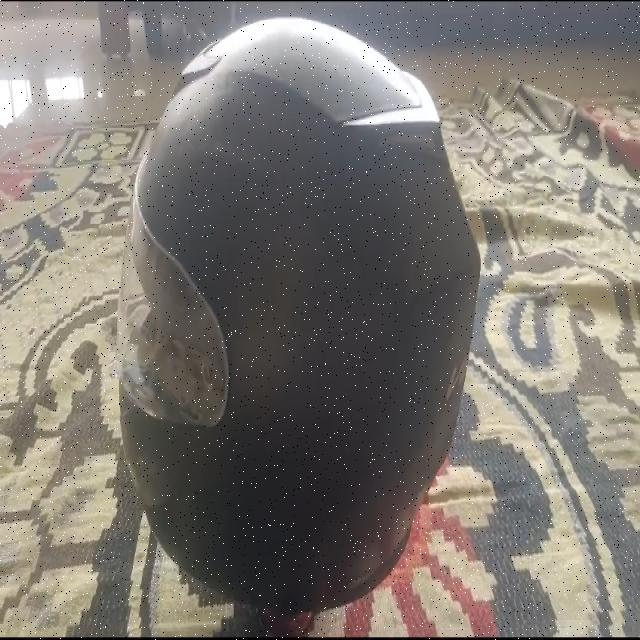Helmet: (118, 19, 482, 636)
